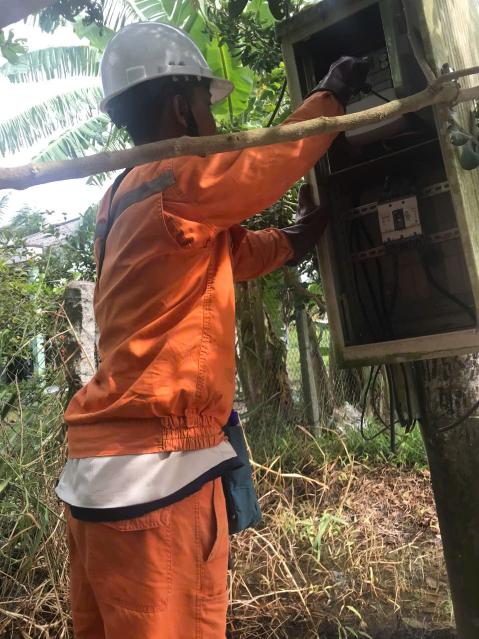gloves: (265, 183, 343, 265), (293, 49, 382, 117)
helmet: (85, 17, 246, 129)
